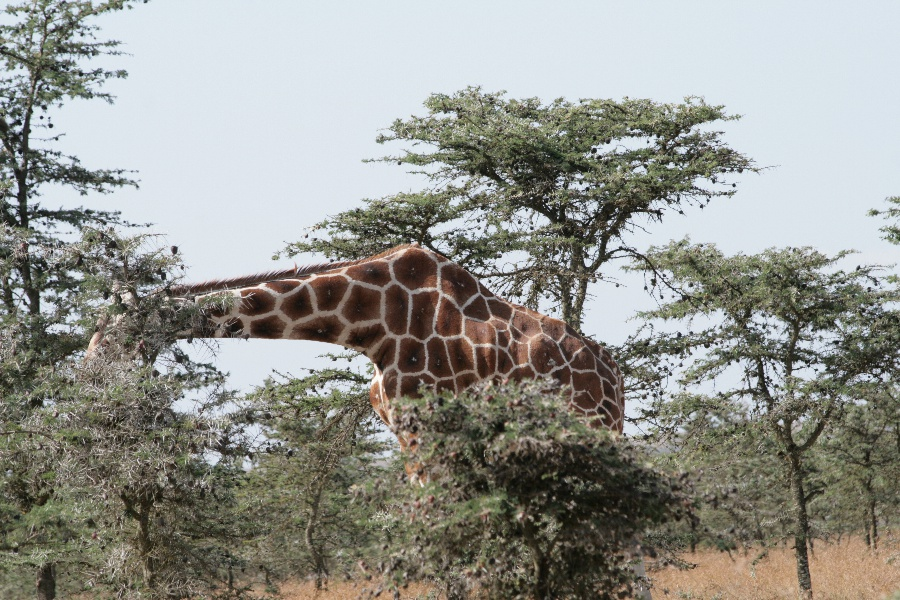giraffe: (93, 229, 634, 458)
